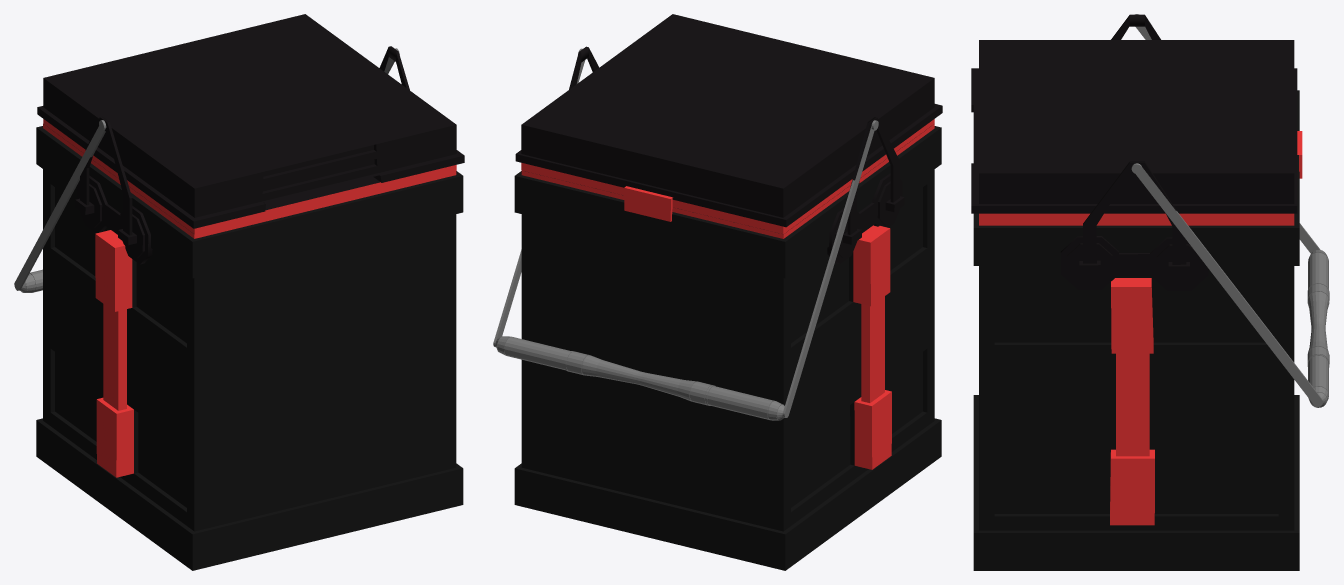
File: fishing_container.fbx
3 views of the same model, side by side, from view 1: azimuth 30°, elevation 25°; view 2: azimuth 150°, elevation 25°; view 3: azimuth 270°, elevation 25° (orthographic). The views are drawn at different scales.
Visible parts, largest first — view 1: container_body, container_cover, left_holderLink, ew, container_holder; view 2: container_body, container_cover, container_holder, left_holderLink, ew, cover_link, body_link; view 3: container_body, container_cover, left_holderLink (×2), container_holder, ew.
Part boxes in pixels (x1,y1,x2,y2): container_body: [36, 123, 463, 570]; container_cover: [37, 14, 464, 228]; left_holderLink: [75, 116, 152, 264]; ew: [43, 119, 456, 234]; container_holder: [14, 48, 399, 292]; container_body: [514, 124, 941, 570]; container_cover: [515, 14, 942, 227]; container_holder: [493, 48, 874, 420]; left_holderLink: [827, 117, 904, 263]; ew: [521, 119, 934, 234]; cover_link: [624, 186, 672, 210]; body_link: [624, 199, 672, 221]; container_body: [973, 90, 1299, 570]; container_cover: [971, 40, 1297, 213]; left_holderLink (×2): [1060, 14, 1208, 291]; container_holder: [1131, 26, 1329, 407]; ew: [979, 213, 1294, 220].
Size of the model in its own units: 68.12 by 86.7 by 68.11.
